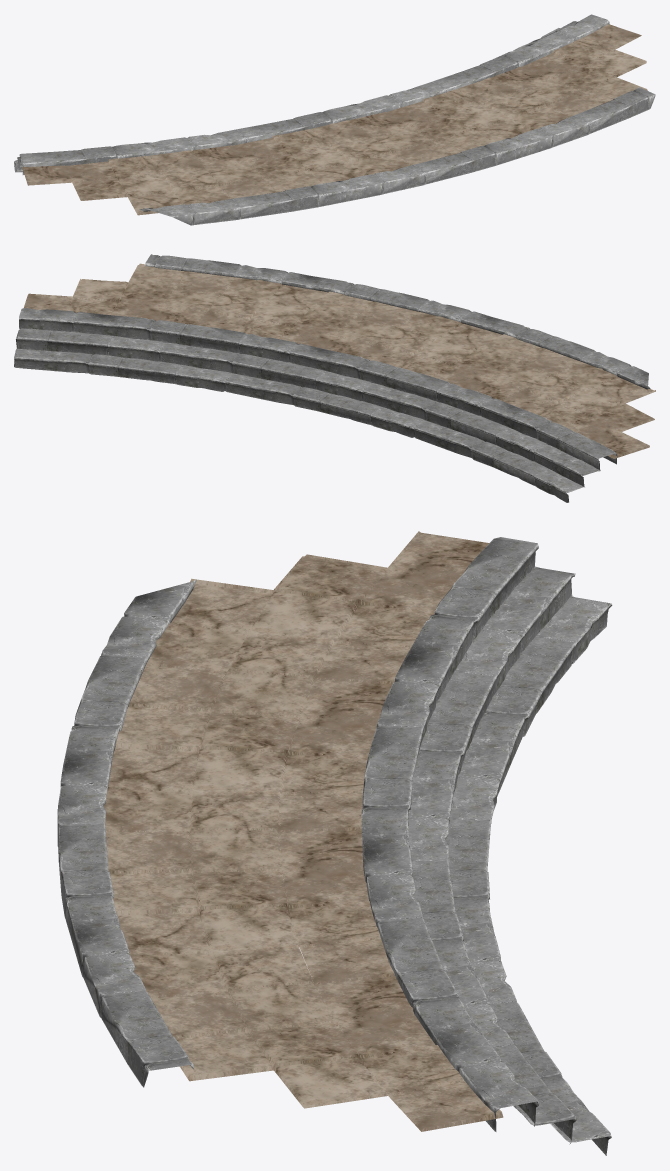
The picture shows the model from 3 angles, top to bottom: view 1: azimuth 30°, elevation 25°; view 2: azimuth 150°, elevation 25°; view 3: azimuth 270°, elevation 25°; orthographic projection. The views are drawn at different scales.
Visible parts, largest first — view 1: SM_Steps01_Cut_LOD0; view 2: SM_Steps01_Cut_LOD0; view 3: SM_Steps01_Cut_LOD0.
Boxes of the visible parts, x1=… form: SM_Steps01_Cut_LOD0: x1=14, y1=14, x2=655, y2=225; SM_Steps01_Cut_LOD0: x1=14, y1=254, x2=655, y2=502; SM_Steps01_Cut_LOD0: x1=57, y1=531, x2=612, y2=1155.
Size of the model in its own units: 16.31 by 0.8971 by 6.39.
Materials: 2 (2 with a texture image).
